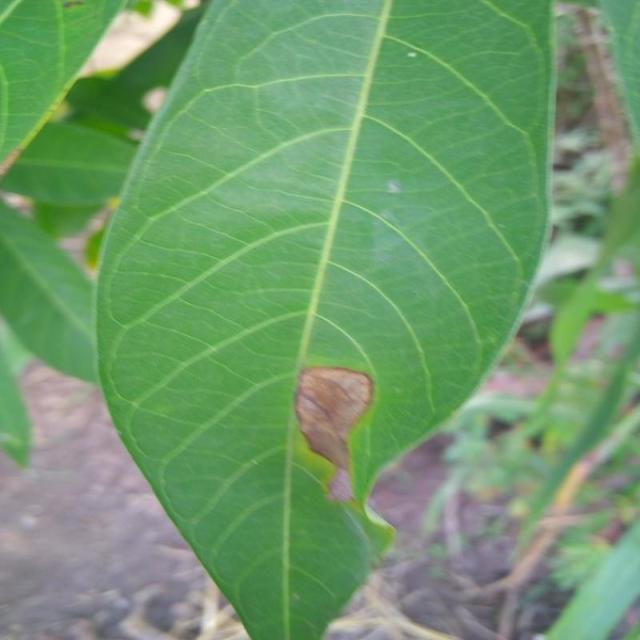cassava leaf: (92, 0, 558, 638)
